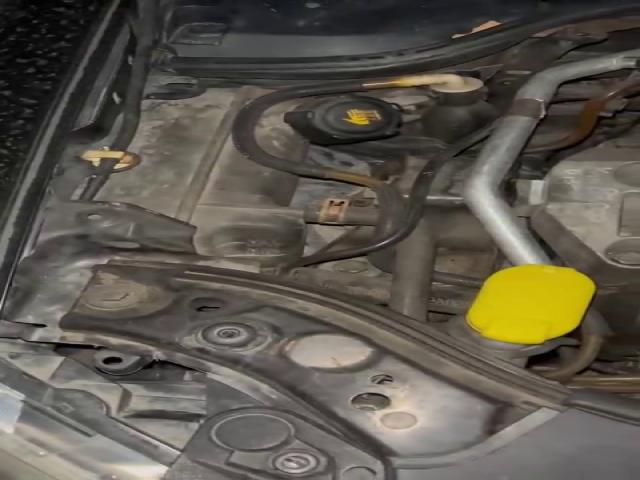antifreeze_tank: (99, 86, 304, 262), (256, 94, 402, 161)
